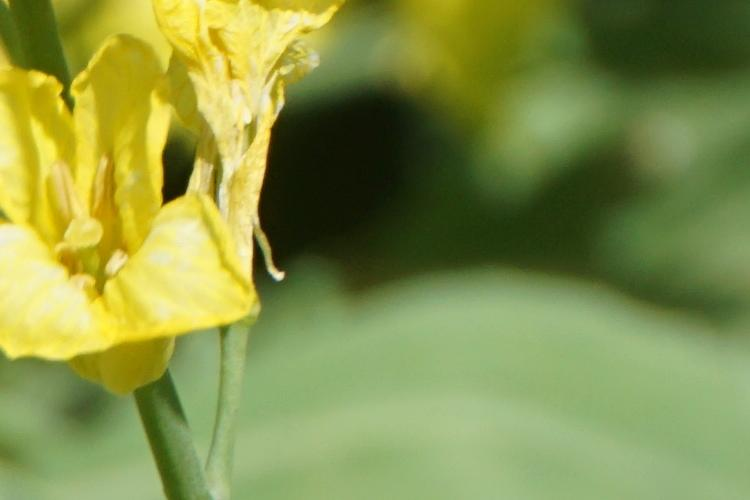yellow: (11, 51, 276, 395), (165, 6, 312, 270)
